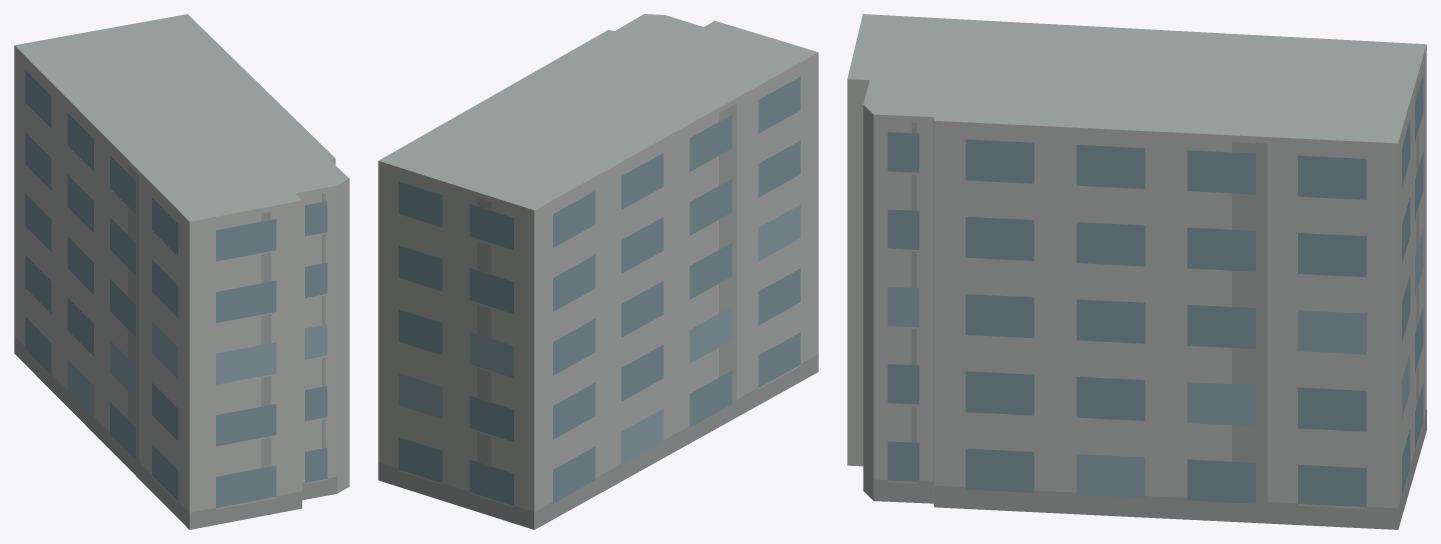
File: survey-upis-32987203.glb
The picture shows the model from 3 angles, left to right: view 1: azimuth 30°, elevation 25°; view 2: azimuth 150°, elevation 25°; view 3: azimuth 270°, elevation 25°; orthographic projection. The views are drawn at different scales.
Parts seen in each view (by area): view 1: survey-upis-32987203.tmp; view 2: survey-upis-32987203.tmp; view 3: survey-upis-32987203.tmp.
Boxes of the visible parts, x1,y1,x2,y2 form: survey-upis-32987203.tmp: (14, 14, 349, 529); survey-upis-32987203.tmp: (378, 14, 818, 529); survey-upis-32987203.tmp: (847, 14, 1426, 529).
Bounding box in the file's own units: 10.28 × 14.3 × 19.44.
